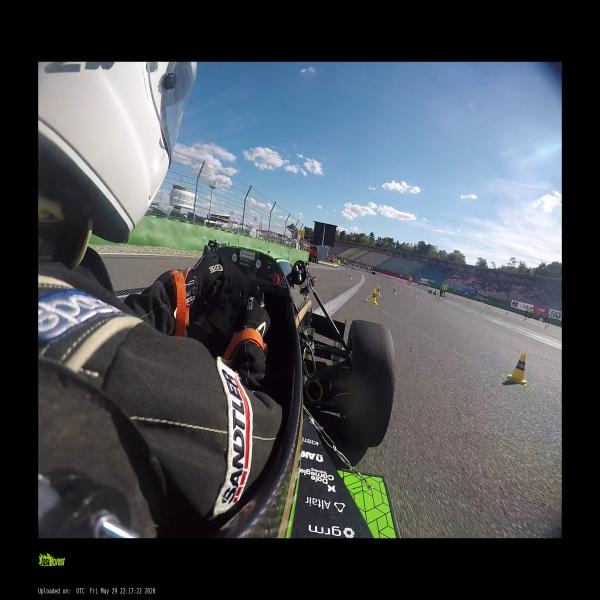yellow_cone: (505, 351, 530, 384), (370, 289, 378, 304), (376, 286, 381, 295), (348, 272, 352, 280), (374, 279, 378, 285), (393, 288, 396, 294), (414, 291, 417, 297), (398, 285, 401, 289), (392, 282, 395, 286), (438, 297, 440, 302), (485, 304, 487, 308), (544, 324, 546, 328), (488, 307, 490, 310), (523, 318, 525, 321), (505, 311, 506, 315)
